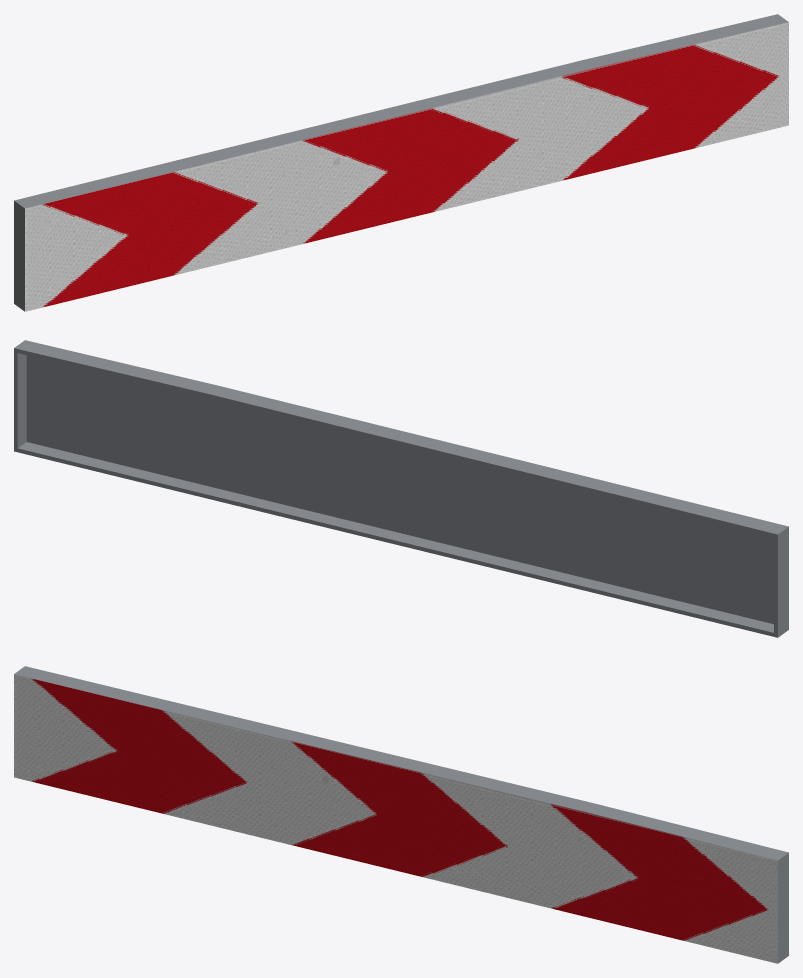
3 views of the same model, one above another, from view 1: azimuth 30°, elevation 25°; view 2: azimuth 150°, elevation 25°; view 3: azimuth 330°, elevation 25° (orthographic).
Visible parts, largest first — view 1: cat_a87eb59ac7b5f341; view 2: cat_a87eb59ac7b5f341; view 3: cat_a87eb59ac7b5f341.
Boxes of the visible parts, x1,y1,x2,y2 form: cat_a87eb59ac7b5f341: (14, 14, 788, 311); cat_a87eb59ac7b5f341: (14, 340, 788, 637); cat_a87eb59ac7b5f341: (14, 666, 788, 963).
Size of the model in its own units: 0.6 by 0.015 by 0.0787.
Materials: 2 (1 with a texture image).
